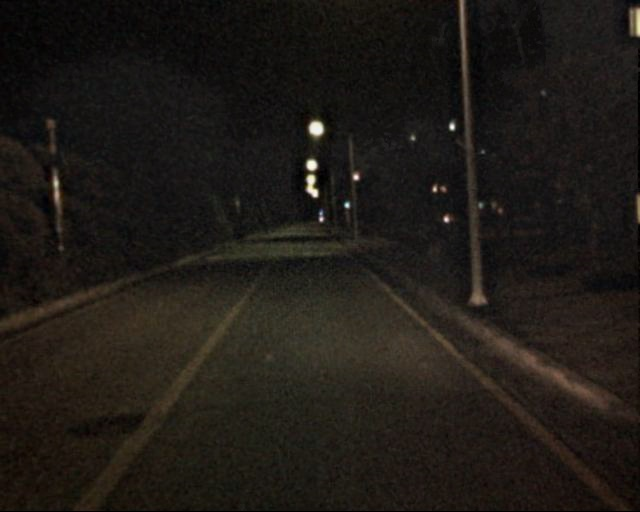person: (432, 215, 451, 262), (424, 217, 442, 262)
